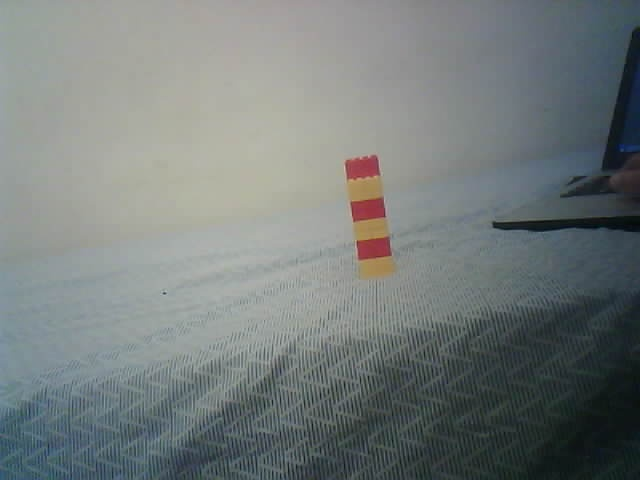lego: (344, 154, 396, 280)
